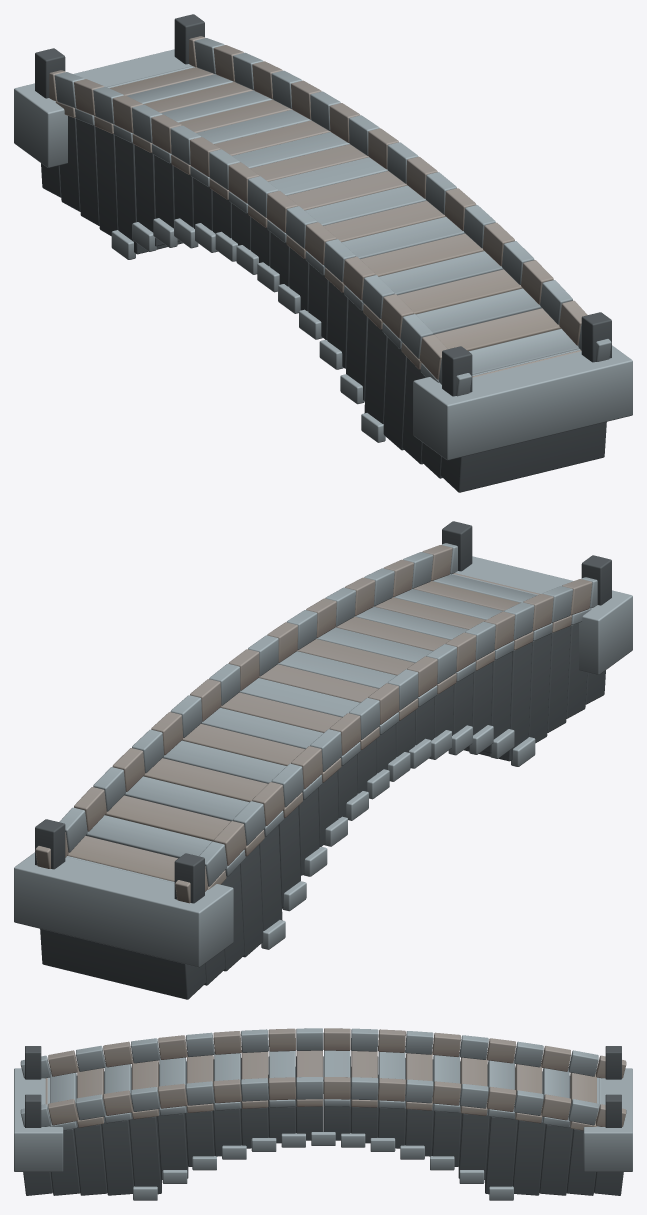
The model's file is bridge_stone.glb.
The picture shows the model from 3 angles, top to bottom: view 1: azimuth 30°, elevation 25°; view 2: azimuth 150°, elevation 25°; view 3: azimuth 270°, elevation 25°; orthographic projection. The views are drawn at different scales.
Visible parts, largest first — view 1: bridge_stone; view 2: bridge_stone; view 3: bridge_stone.
Boxes of the visible parts, x1,y1,x2,y2 form: bridge_stone: [14, 14, 632, 492]; bridge_stone: [14, 521, 632, 999]; bridge_stone: [14, 1028, 632, 1200].
Size of the model in its own units: 5.6 by 4.8 by 22.6.
Materials: 1 (1 with a texture image).
